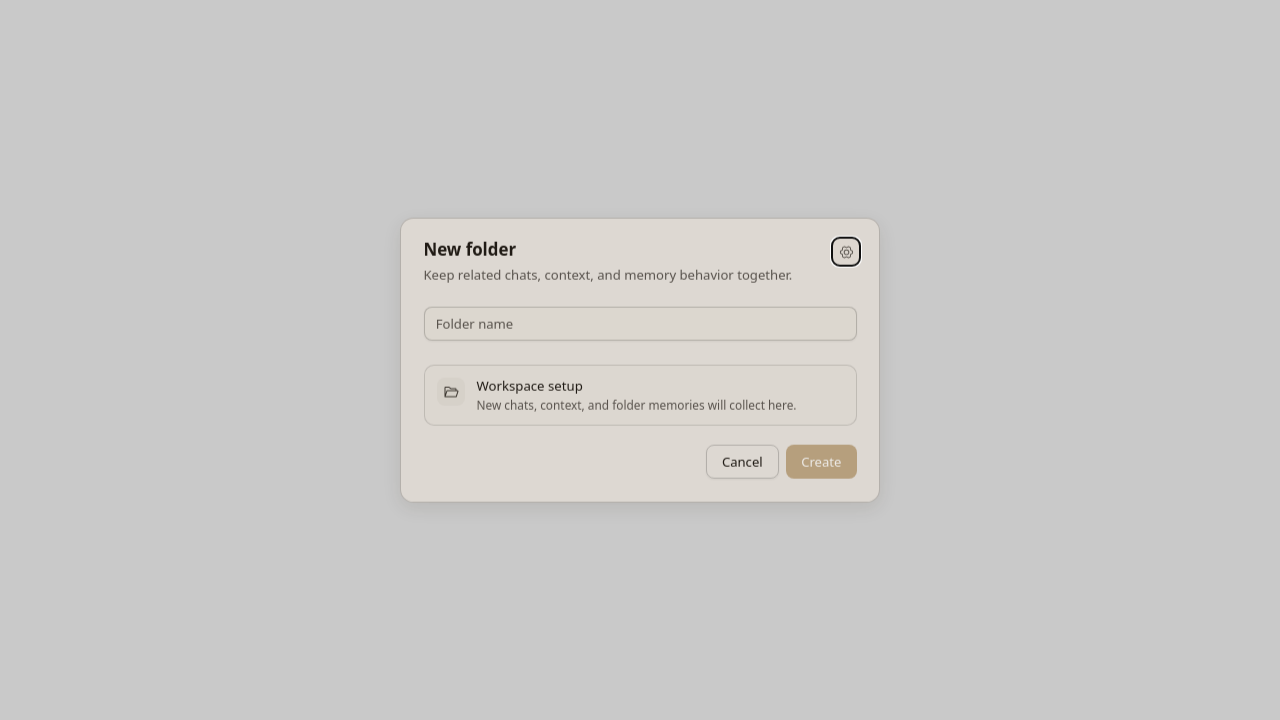
Test: FolderNameDialog › opens folder settings from the gear button
expect the text "Choose memory access" is not shown: met
Step 1. Press the mouse on the button named "folder settings" → coordinates (846, 252), box [831,237,861,267]
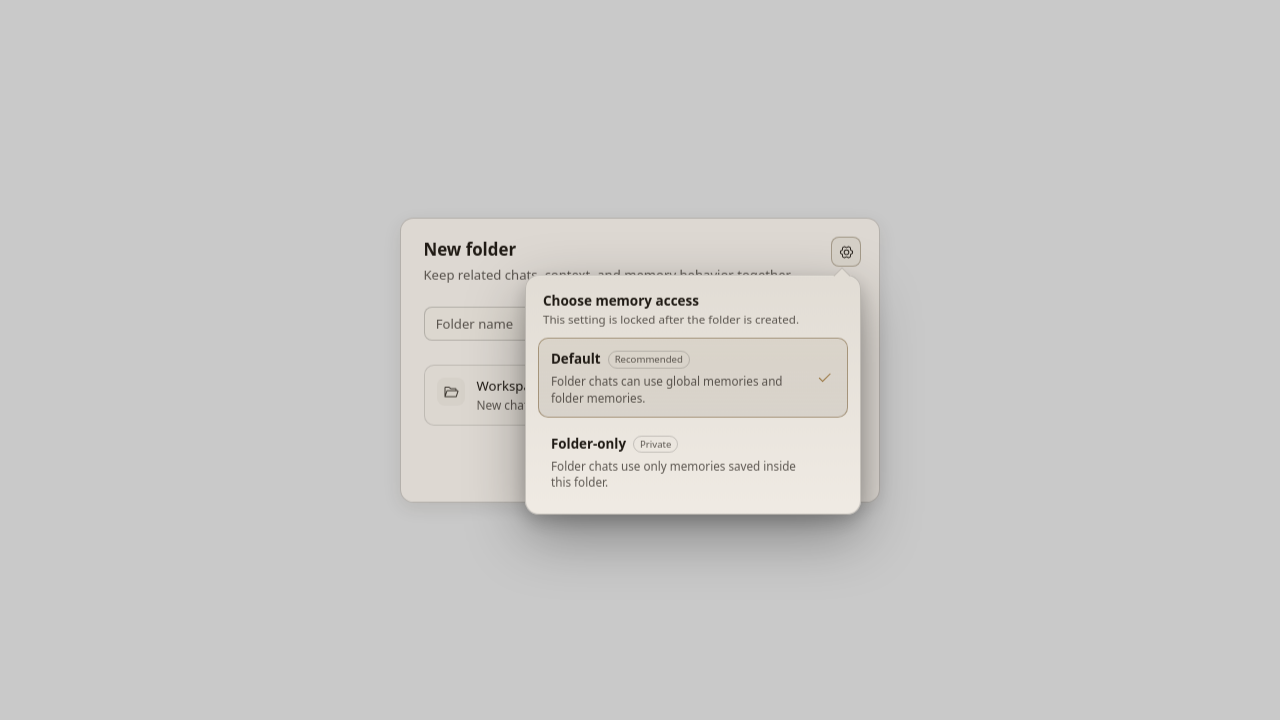
expect the text "Choose memory access" is shown: met, box [543,292,699,310]
expect the button named "folder settings" is expanded: met, box [831,237,861,267]
